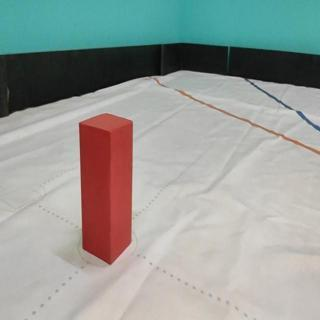redbox: (77, 112, 134, 266)
